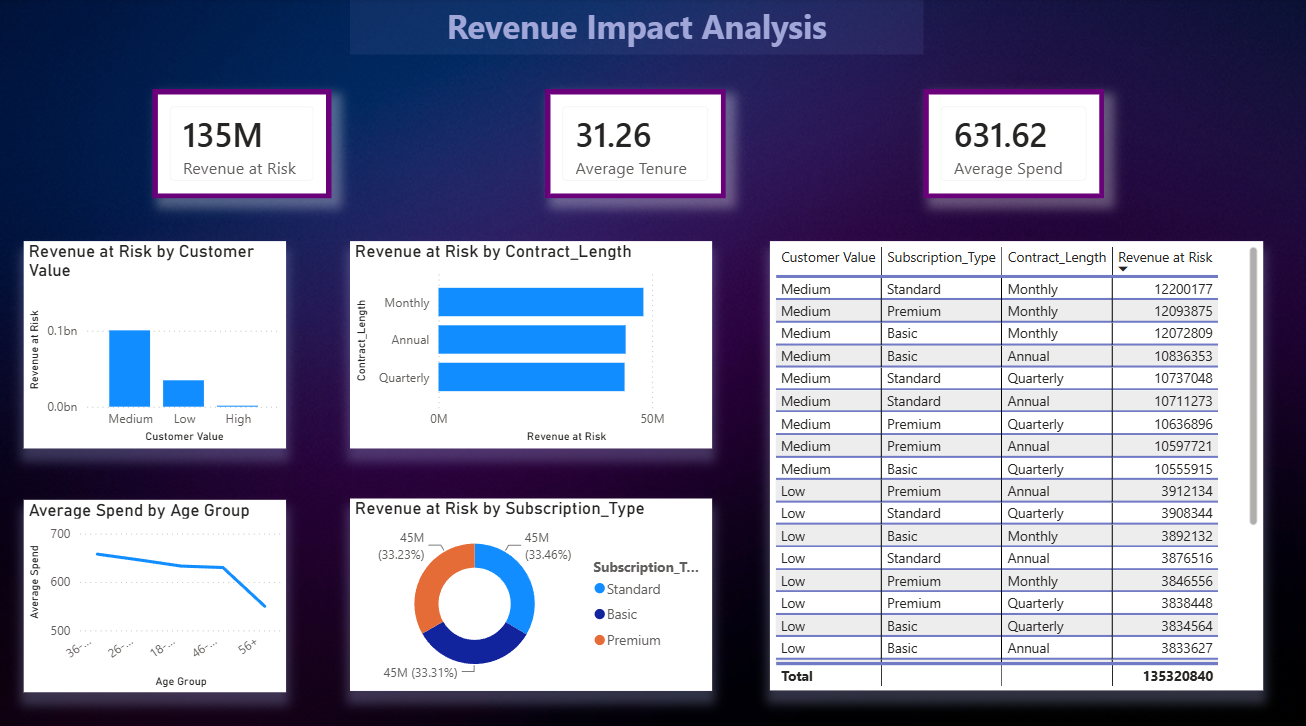

This screenshot's page, from the dashboard's own definition file:
{"tool":"powerbi","page":{"name":"Page 3","canvas":[1280,720],"ordinal":2},"visuals":[{"type":"textbox","box":[344.3,0,561.4,55.7],"z":0},{"type":"cardVisual","fields":{"Data":["customer_churn.Revenue at Risk"]},"box":[150,88.6,175.7,107.1],"z":1000},{"type":"cardVisual","fields":{"Data":["customer_churn.Average Tenure"]},"box":[534.3,88.6,177.1,107.1],"z":2000},{"type":"cardVisual","fields":{"Data":["customer_churn.Average Spend"]},"box":[905.7,88.6,177.1,107.1],"z":3000},{"type":"clusteredColumnChart","fields":{"Category":["customer_churn.Customer Value"],"Y":["customer_churn.Revenue at Risk"]},"box":[24.3,238.6,257.1,202.9],"z":4000},{"type":"donutChart","fields":{"Category":["customer_churn.Subscription_Type"],"Y":["customer_churn.Revenue at Risk"]},"box":[344.3,490.4,354.3,188.6],"z":5000},{"type":"clusteredBarChart","fields":{"Y":["customer_churn.Revenue at Risk"],"Category":["customer_churn.Contract_Length"]},"box":[344.3,238.6,354.3,202.9],"z":6000},{"type":"lineChart","fields":{"Category":["customer_churn.Age Group"],"Y":["customer_churn.Average Spend"]},"box":[24.3,491.4,257.1,188.6],"z":7000},{"type":"tableEx","fields":{"Values":["customer_churn.Customer Value","customer_churn.Subscription_Type","customer_churn.Contract_Length","customer_churn.Revenue at Risk"]},"box":[754.3,238.6,482.9,440],"z":8000}]}

Visuals, with their boxes in screenshot pixels (x1, y1, x2, y2), scaled from the page's 1280x720 canvas onto the 1306x726 screenshot:
textbox: {"left": 351, "top": 0, "right": 924, "bottom": 56}
cardVisual - customer_churn.Revenue at Risk: {"left": 153, "top": 89, "right": 332, "bottom": 197}
cardVisual - customer_churn.Average Tenure: {"left": 545, "top": 89, "right": 726, "bottom": 197}
cardVisual - customer_churn.Average Spend: {"left": 924, "top": 89, "right": 1105, "bottom": 197}
clusteredColumnChart - customer_churn.Customer Value x customer_churn.Revenue at Risk: {"left": 25, "top": 241, "right": 287, "bottom": 445}
donutChart - customer_churn.Subscription_Type x customer_churn.Revenue at Risk: {"left": 351, "top": 494, "right": 713, "bottom": 685}
clusteredBarChart - customer_churn.Revenue at Risk x customer_churn.Contract_Length: {"left": 351, "top": 241, "right": 713, "bottom": 445}
lineChart - customer_churn.Age Group x customer_churn.Average Spend: {"left": 25, "top": 495, "right": 287, "bottom": 686}
tableEx - customer_churn.Customer Value x customer_churn.Subscription_Type: {"left": 770, "top": 241, "right": 1262, "bottom": 684}
